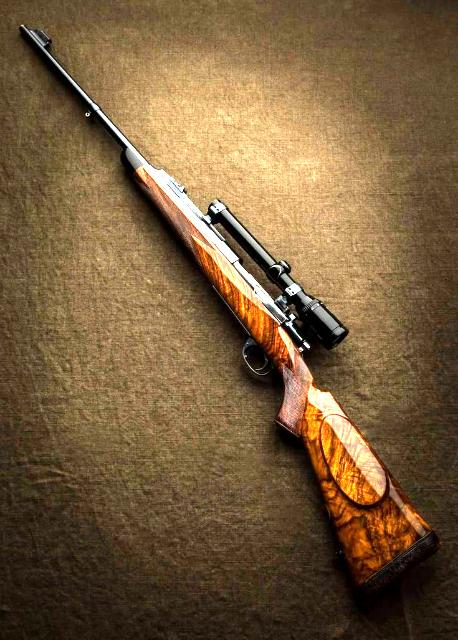rifle: (17, 16, 439, 598)
